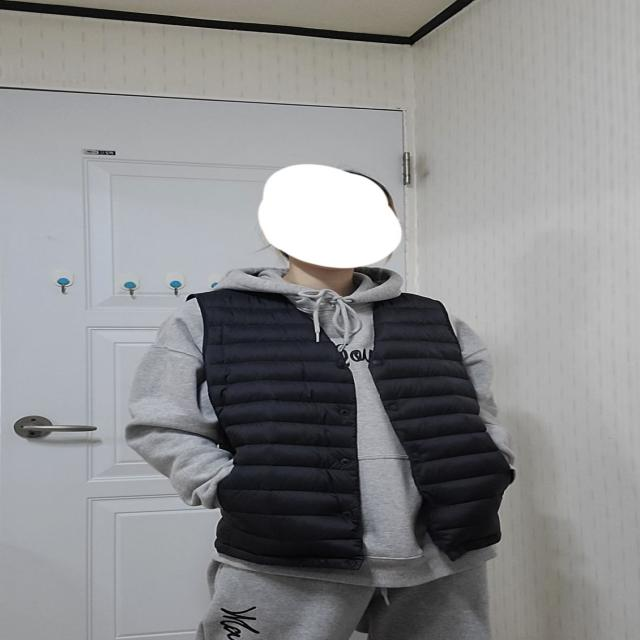hoodies: (120, 266, 520, 592)
padding: (189, 284, 504, 572)
trainingpants: (194, 557, 499, 640)
